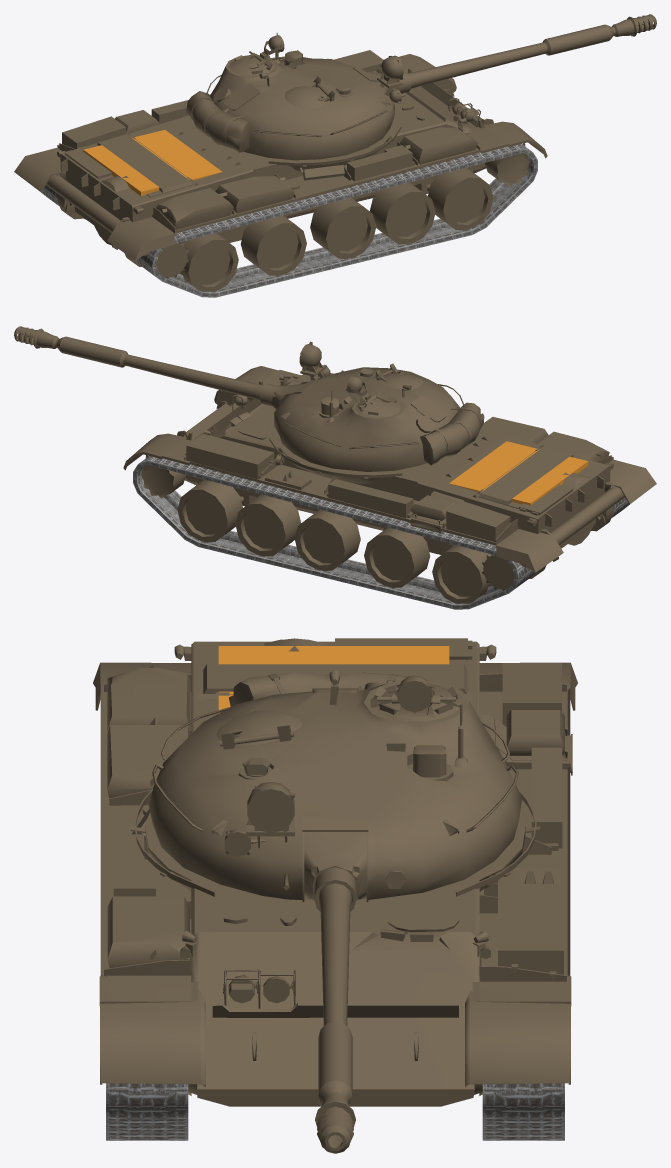
Rendered from t-62av-module-placeholder.glb.
3 renders of one model, top to bottom at view 1: azimuth 30°, elevation 25°; view 2: azimuth 150°, elevation 25°; view 3: azimuth 270°, elevation 25°, orthographic. The views are drawn at different scales.
Visible parts, largest first — view 1: hull_nc_lod0, turret_01_lod0, hull_lod0, chassis_track_R_lod0, turret_01_nc_lod0, gun_01_lod0, Engine, chassis_wheel_R_04_lod0, chassis_wheel_R_03_lod0, chassis_wheel_R_02_lod0, chassis_wheel_R_05_lod0, chassis_wheel_R_06_lod0 (+2 smaller); view 2: hull_nc_lod0, turret_01_lod0, hull_lod0, chassis_track_L_lod0, turret_01_nc_lod0, gun_01_lod0, Engine, chassis_wheel_L_04_lod0, chassis_wheel_L_03_lod0, chassis_wheel_L_02_lod0, chassis_wheel_L_05_lod0, chassis_wheel_L_06_lod0 (+3 smaller); view 3: hull_nc_lod0, turret_01_lod0, hull_lod0, turret_01_nc_lod0, gun_01_lod0, chassis_track_L_lod0, chassis_track_R_lod0, Engine, gun_01_mask_lod0.
Part boxes in pixels (bbox=[...]): hull_nc_lod0: bbox=[14, 50, 547, 260]; turret_01_lod0: bbox=[210, 50, 394, 160]; hull_lod0: bbox=[57, 69, 485, 266]; chassis_track_R_lod0: bbox=[134, 144, 537, 297]; turret_01_nc_lod0: bbox=[186, 33, 405, 152]; gun_01_lod0: bbox=[407, 14, 656, 88]; Engine: bbox=[83, 130, 222, 196]; chassis_wheel_R_04_lod0: bbox=[310, 197, 376, 258]; chassis_wheel_R_03_lod0: bbox=[369, 182, 435, 244]; chassis_wheel_R_02_lod0: bbox=[428, 167, 493, 230]; chassis_wheel_R_05_lod0: bbox=[240, 215, 306, 275]; chassis_wheel_R_06_lod0: bbox=[179, 233, 238, 291]; hull_nc_lod0: bbox=[123, 366, 656, 572]; turret_01_lod0: bbox=[274, 367, 460, 471]; hull_lod0: bbox=[185, 381, 613, 578]; chassis_track_L_lod0: bbox=[133, 456, 536, 609]; turret_01_nc_lod0: bbox=[280, 341, 484, 465]; gun_01_lod0: bbox=[14, 326, 263, 400]; Engine: bbox=[449, 441, 588, 505]; chassis_wheel_L_04_lod0: bbox=[294, 509, 360, 570]; chassis_wheel_L_03_lod0: bbox=[235, 494, 301, 556]; chassis_wheel_L_02_lod0: bbox=[177, 479, 242, 542]; chassis_wheel_L_05_lod0: bbox=[364, 527, 430, 587]; chassis_wheel_L_06_lod0: bbox=[432, 545, 491, 603]; hull_nc_lod0: bbox=[93, 638, 577, 1095]; turret_01_lod0: bbox=[148, 681, 522, 901]; hull_lod0: bbox=[145, 641, 525, 1106]; turret_01_nc_lod0: bbox=[152, 670, 518, 890]; gun_01_lod0: bbox=[315, 883, 355, 1153]; chassis_track_L_lod0: bbox=[482, 1083, 564, 1140]; chassis_track_R_lod0: bbox=[106, 1083, 188, 1140]; Engine: bbox=[218, 646, 449, 713]; gun_01_mask_lod0: bbox=[304, 831, 366, 911].
Size of what is drawn, in the model's own units: 9.34 by 2.67 by 3.38.
6 materials, 1 textured.
